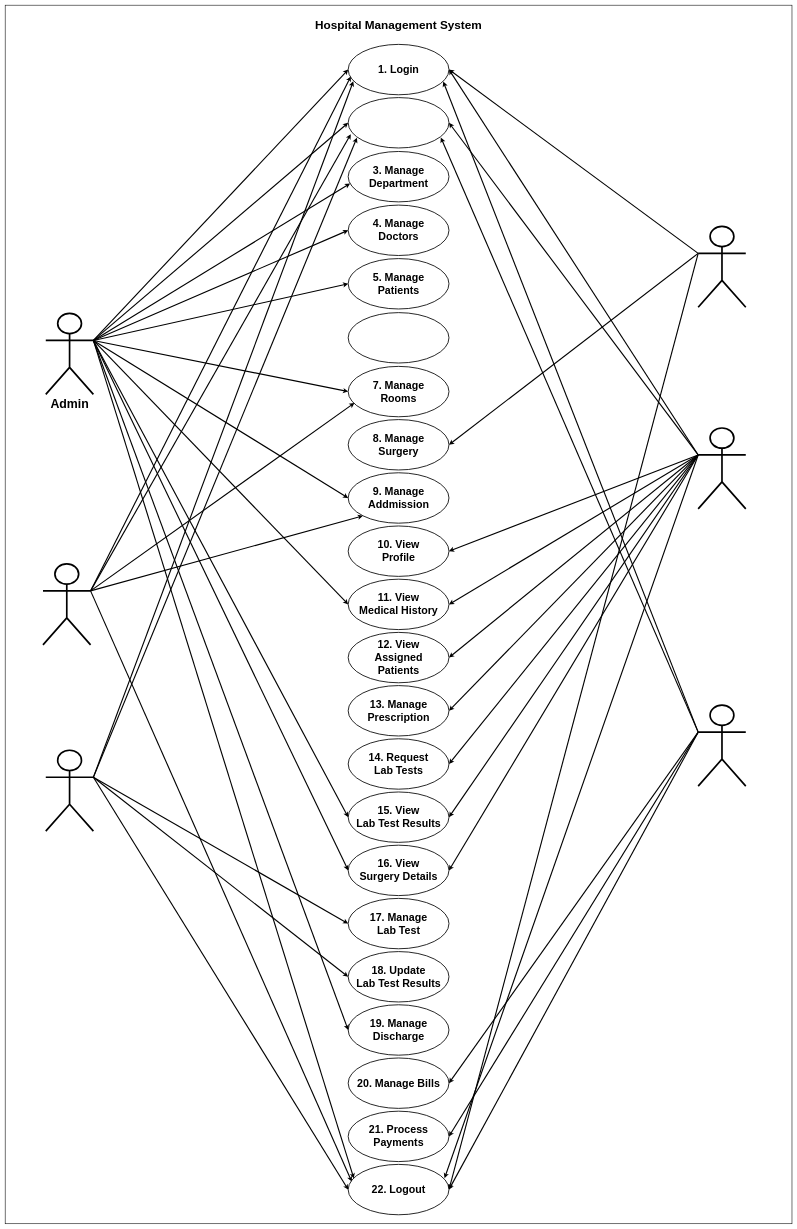
This 797x1229 diagram has some shape labels left out. The box of each missing label's shape, as (x1, y1, x2, y2) in pixels:
2. View Dashboard: (348, 97, 449, 148)
6. Manage Patient Registration: (348, 312, 449, 363)
Bill Desk: (697, 704, 746, 787)
Doctor: (697, 427, 746, 510)
Lab Desk: (45, 749, 94, 832)
Reception: (42, 563, 91, 646)
Surgery: (697, 225, 746, 308)
